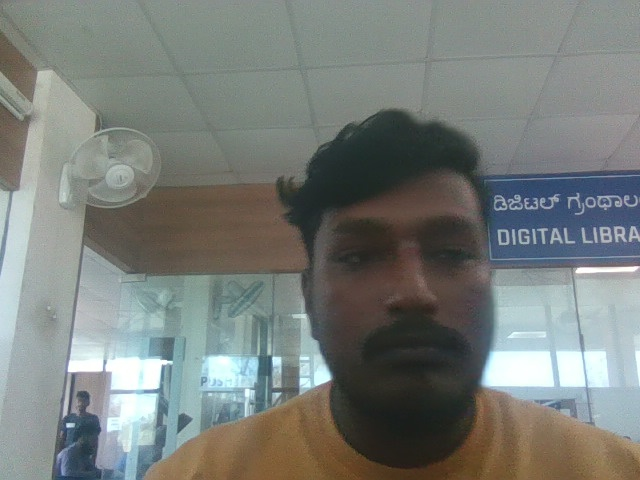real: (280, 84, 524, 430)
